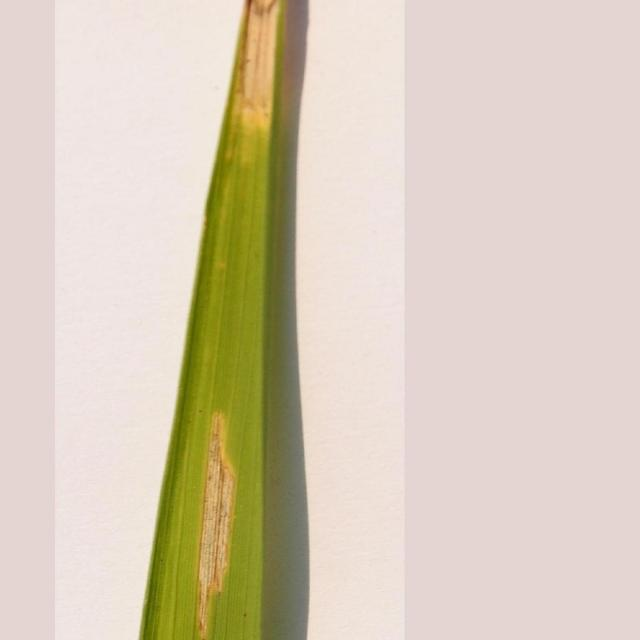leaf blight: (178, 403, 256, 635), (220, 1, 296, 143)
